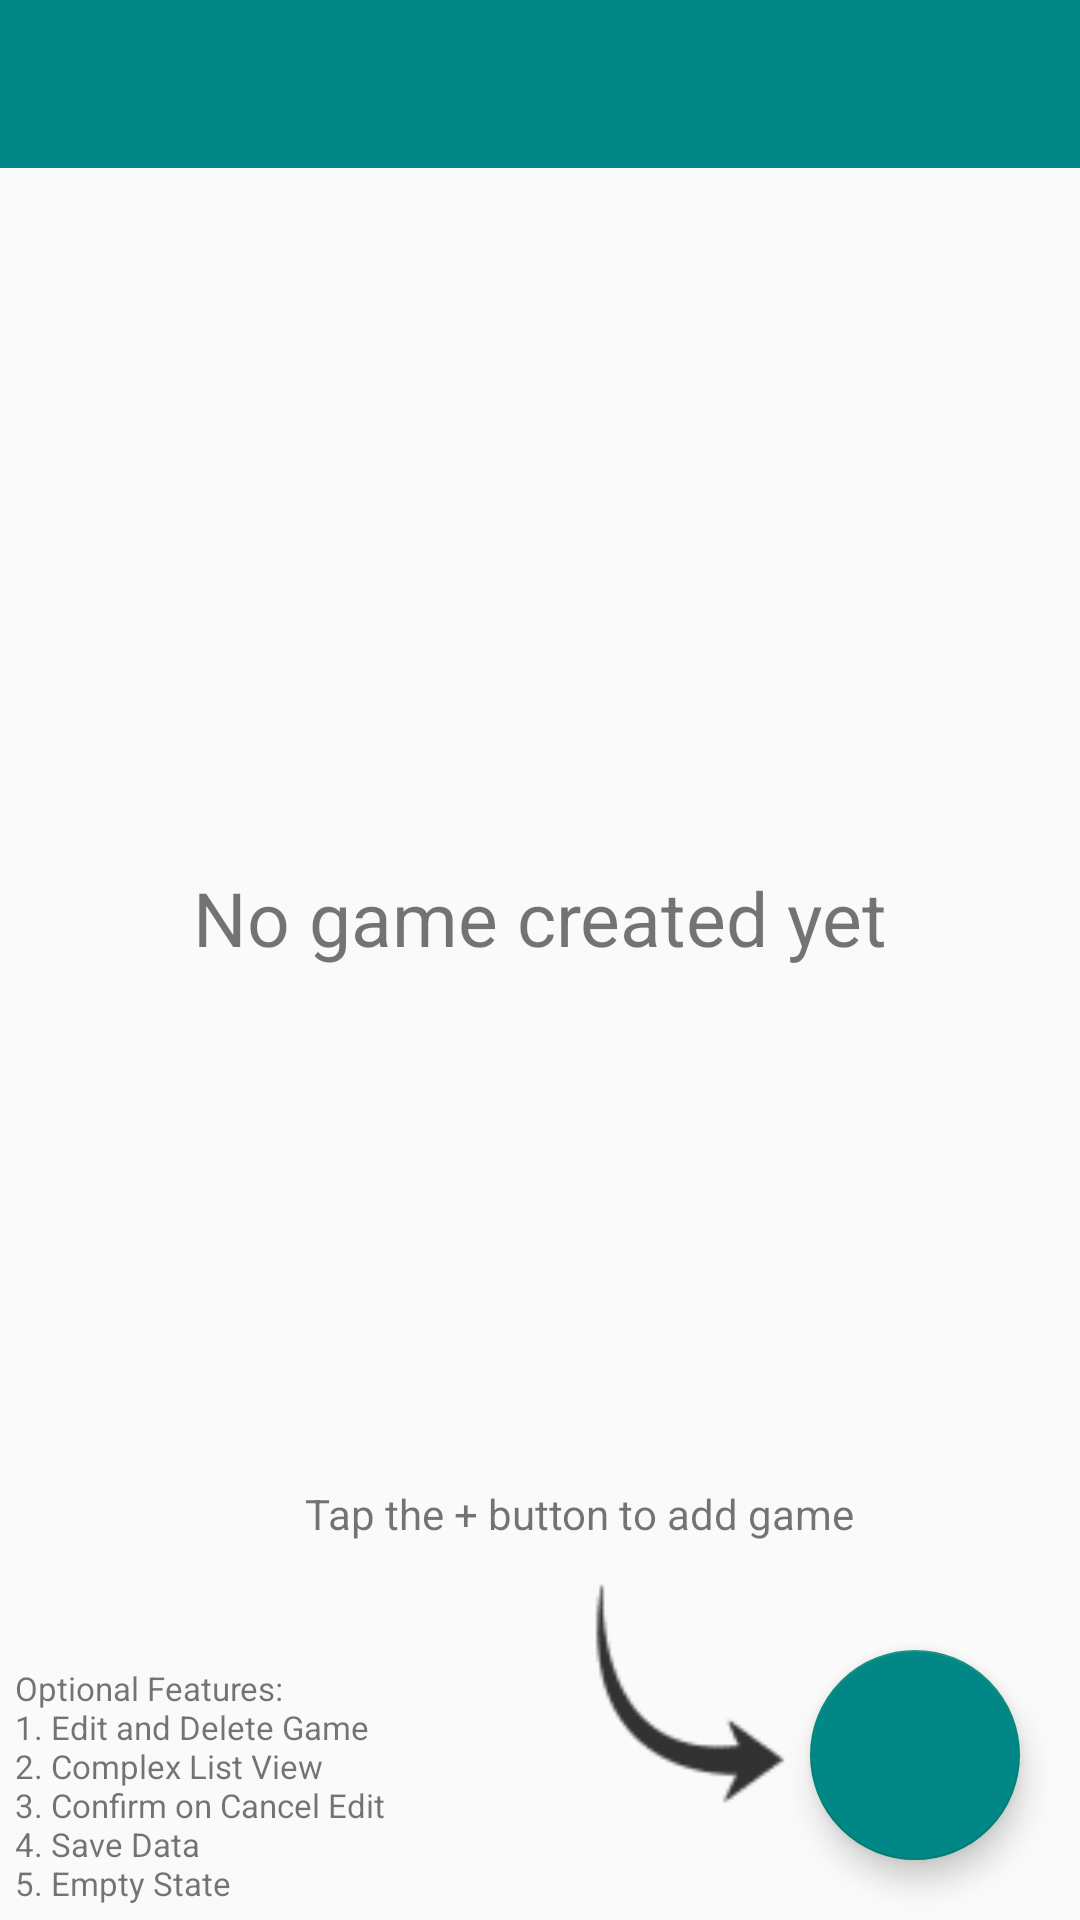

Point at icon controls on the screen. Image size 1080x1920, points as (x=x, y=y).
arrow: (x=690, y=1694)
